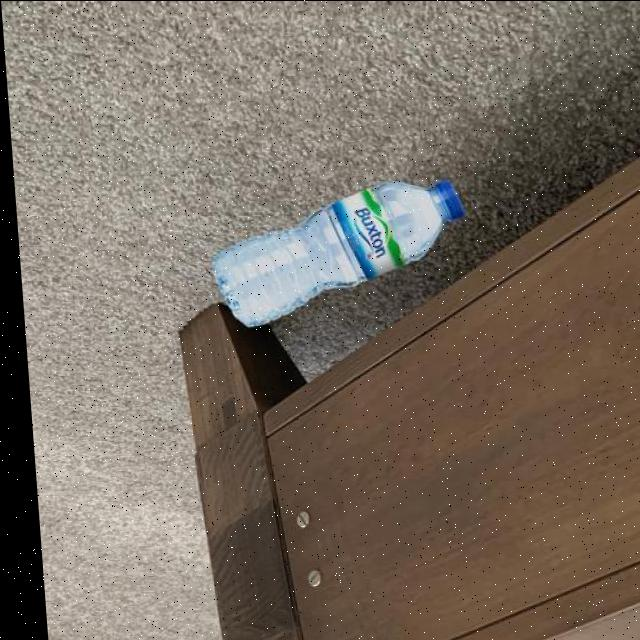bottle: (200, 178, 469, 328)
